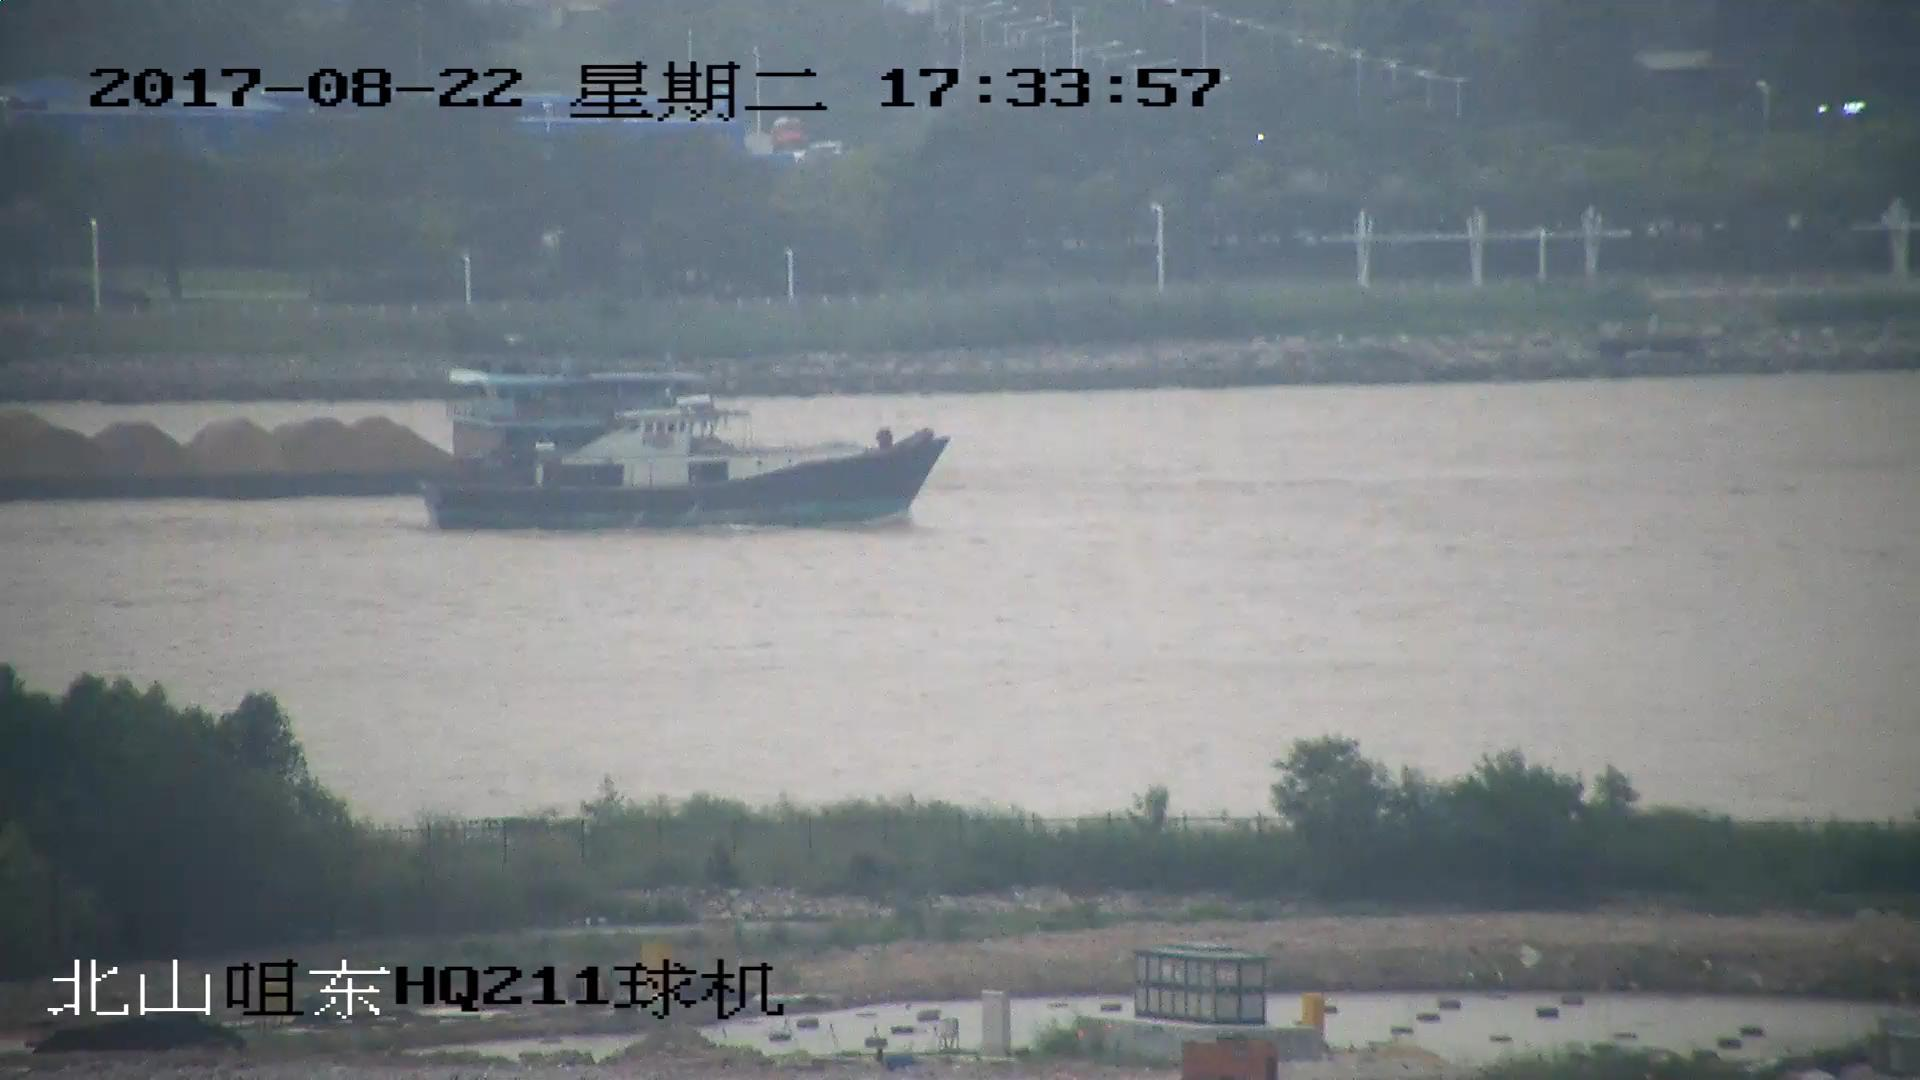Ship: (3, 361, 728, 491), (426, 398, 949, 534)
